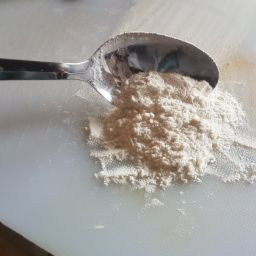Plain flour: (76, 87, 242, 199), (113, 69, 245, 191), (134, 97, 228, 163)
